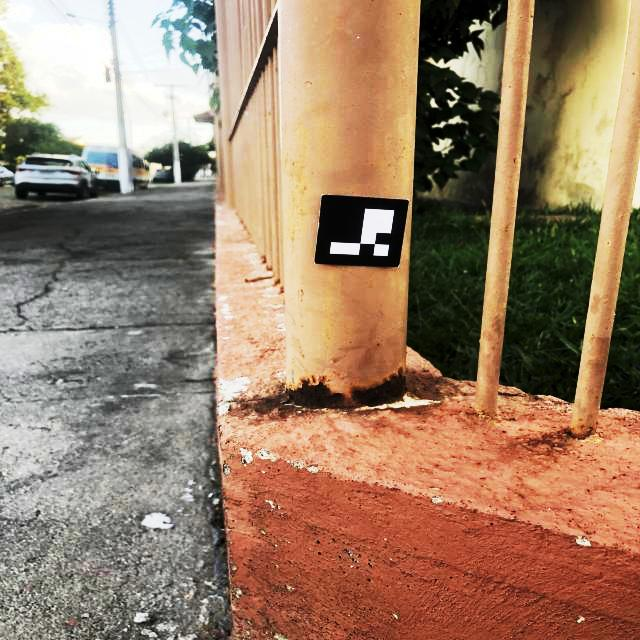Corrosion: (278, 365, 407, 411), (564, 421, 598, 440), (274, 279, 280, 285), (267, 266, 272, 271), (280, 287, 284, 291)
